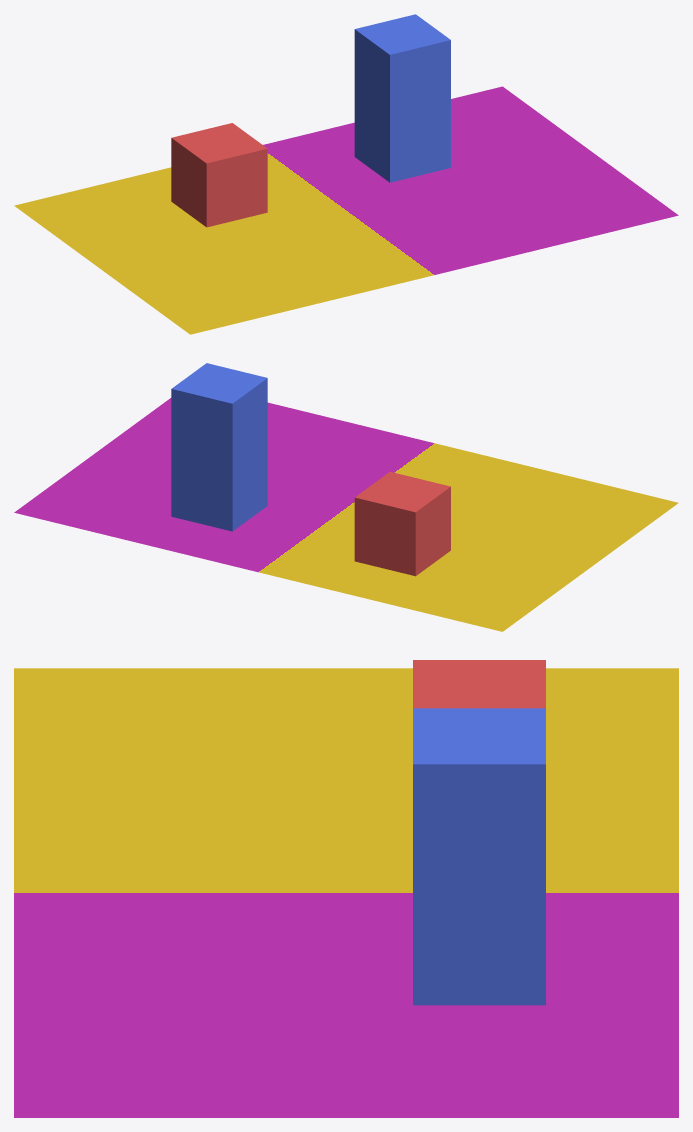
The model's file is features.glb.
The picture shows the model from 3 angles, top to bottom: view 1: azimuth 30°, elevation 25°; view 2: azimuth 150°, elevation 25°; view 3: azimuth 270°, elevation 25°; orthographic projection. The views are drawn at different scales.
Visible parts, largest first — view 1: Ground, Buildings; view 2: Ground, Buildings; view 3: Ground, Buildings.
Boxes of the visible parts, <box> form: Ground: <box>14,86,678,334</box>; Buildings: <box>171,14,450,227</box>; Ground: <box>14,398,678,631</box>; Buildings: <box>171,363,450,576</box>; Ground: <box>14,668,678,1117</box>; Buildings: <box>413,660,545,1005</box>.
Bounding box in the file's own units: 8 × 2 × 5.
2 materials, 1 textured.
